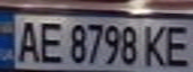7: (84, 20, 106, 65)
8: (118, 21, 142, 66), (63, 20, 87, 64)
9: (103, 21, 124, 65)
A: (12, 18, 42, 63)
E: (160, 21, 193, 70), (33, 18, 66, 64)
K: (139, 21, 172, 69)
